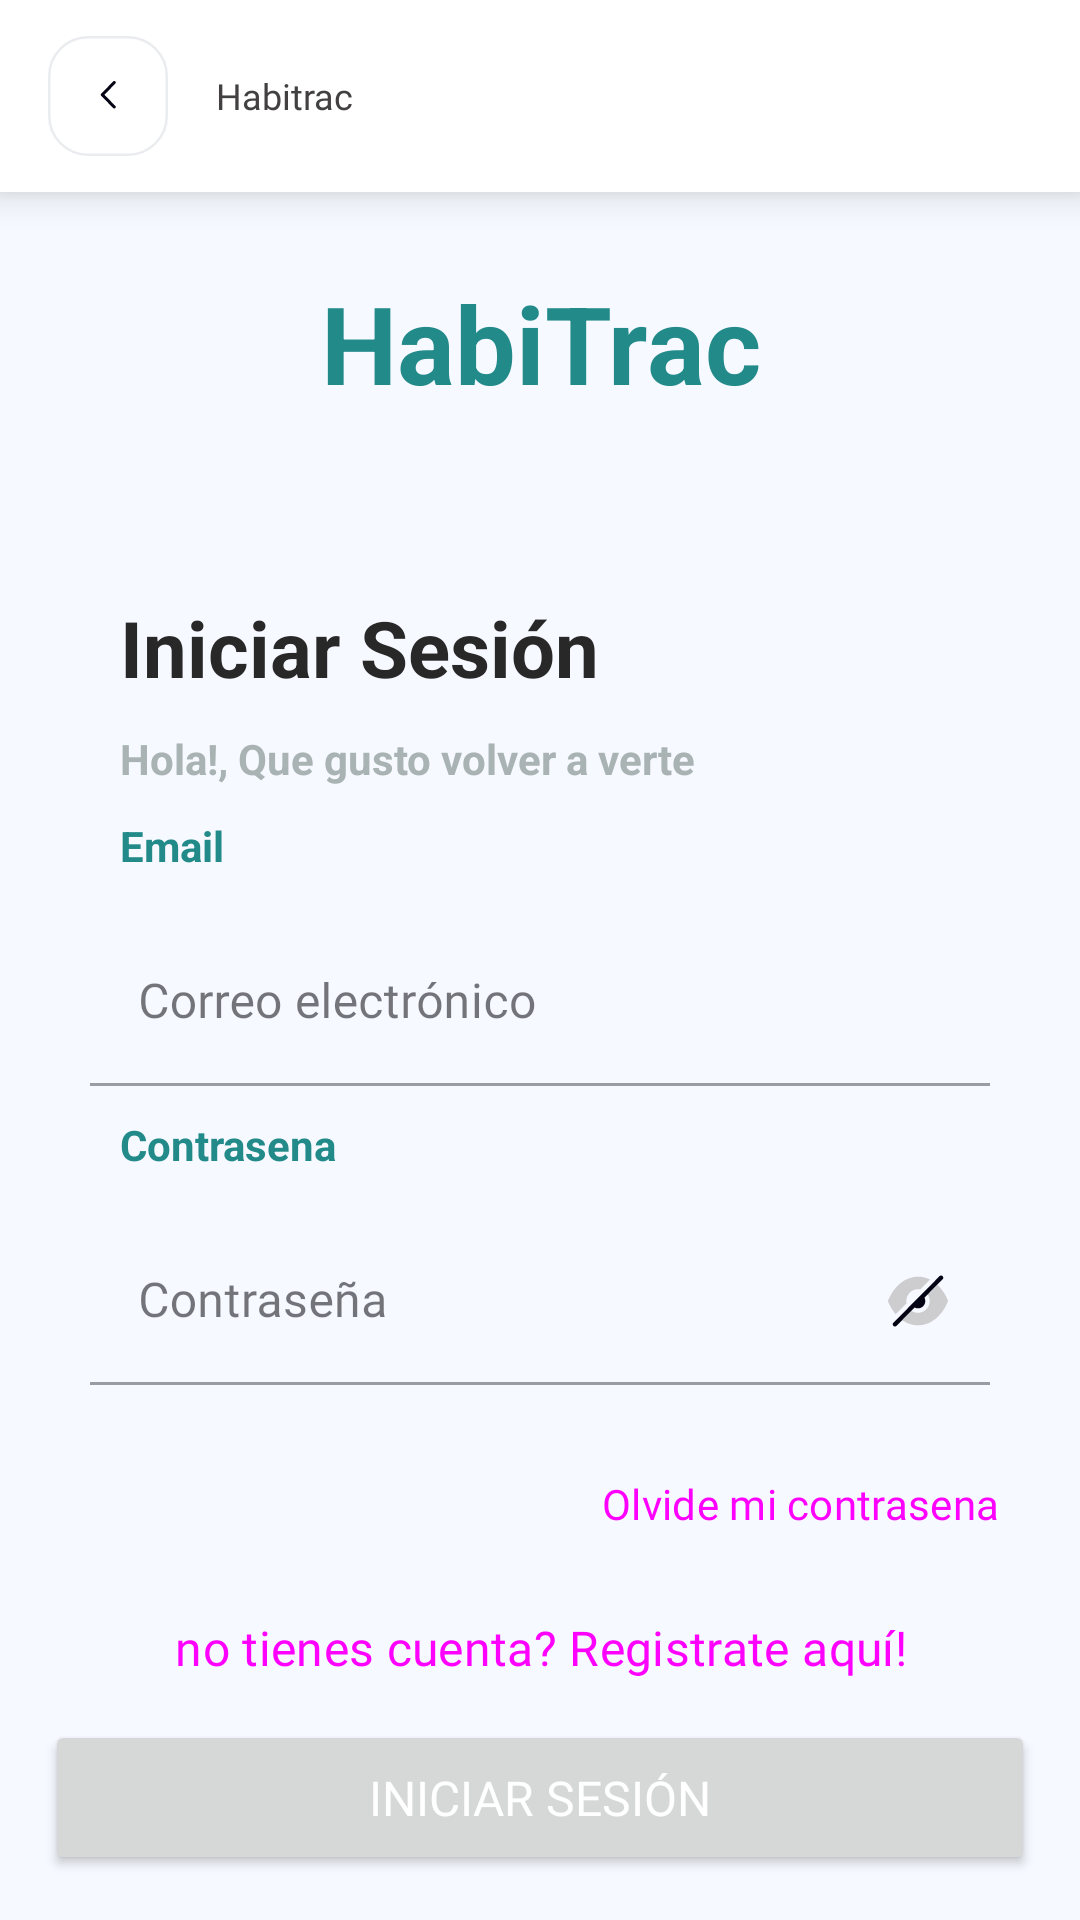

Point at icon controls on the screen. Image size 1080px×1920px, points as point (x, y).
back: point (108, 95)
